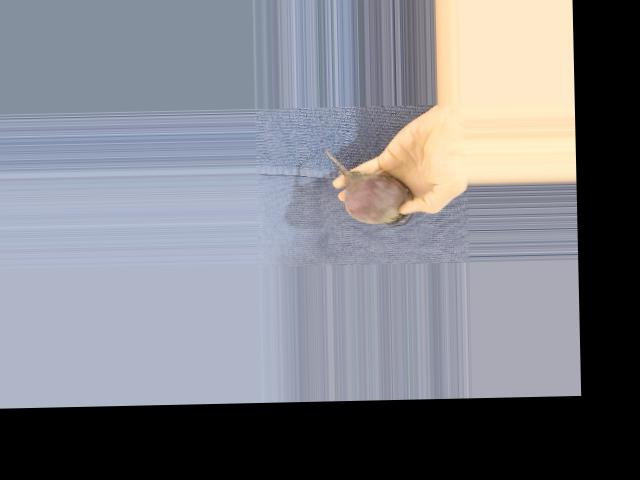beet: (325, 147, 413, 228)
